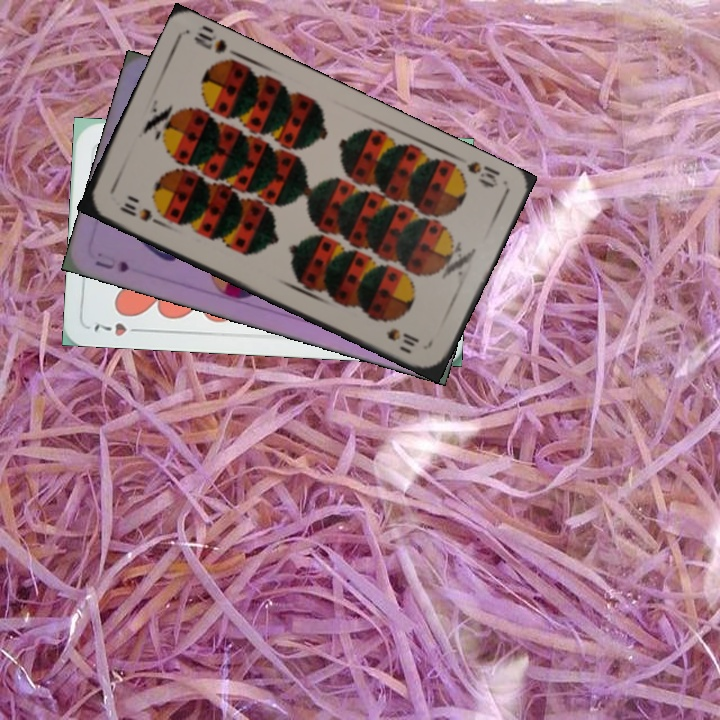H7: (90, 319, 147, 339)
S10: (451, 151, 503, 191), (115, 198, 164, 228)
SU: (90, 256, 132, 275)
